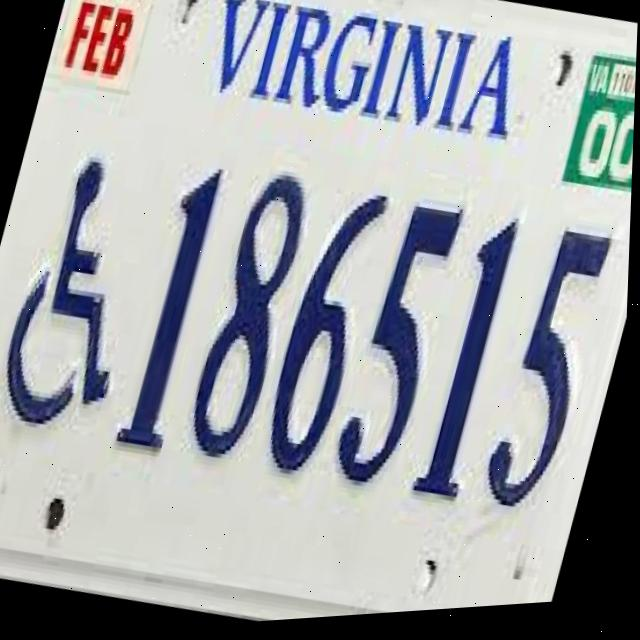symbol_of_access: (0, 135, 173, 446)
